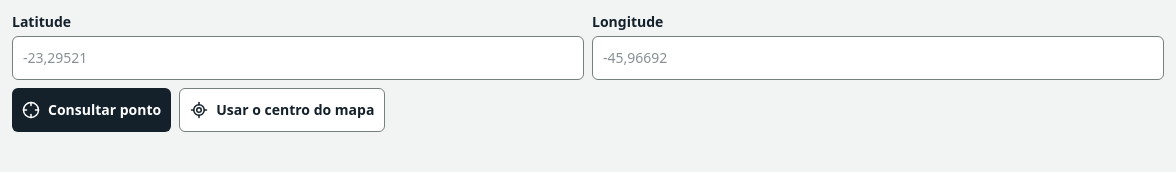
Test case: ConsultaPorCoordenada › consulta o centro do mapa
Click the button "Usar o centro do mapa": (282, 110) left=179, top=88, right=385, bottom=132
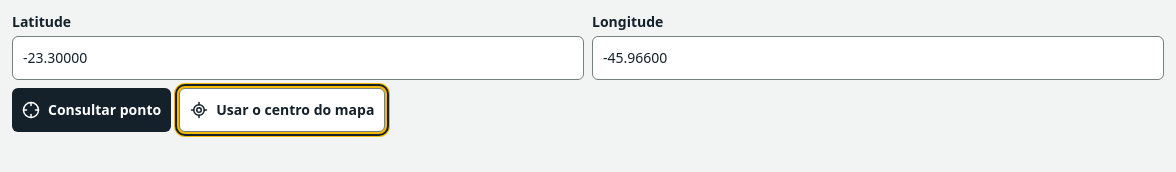
Check: the field labelled "Latitude" holds "-23.30000", box left=12, top=36, right=584, bottom=80
